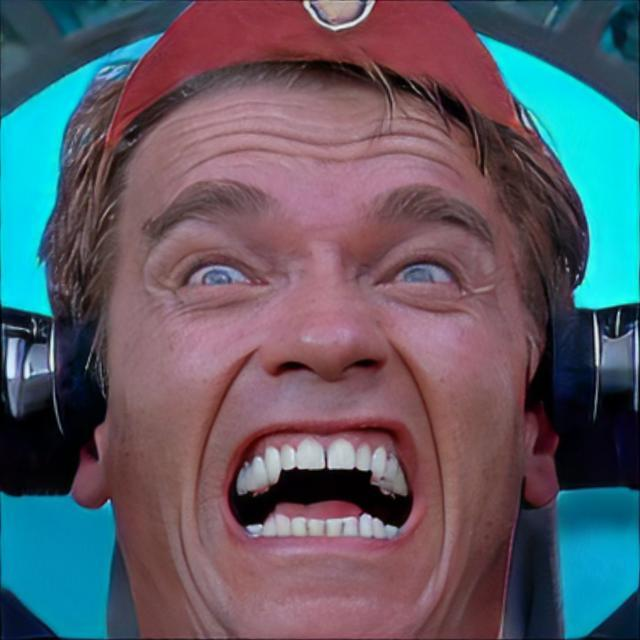fear: (106, 56, 530, 640)
